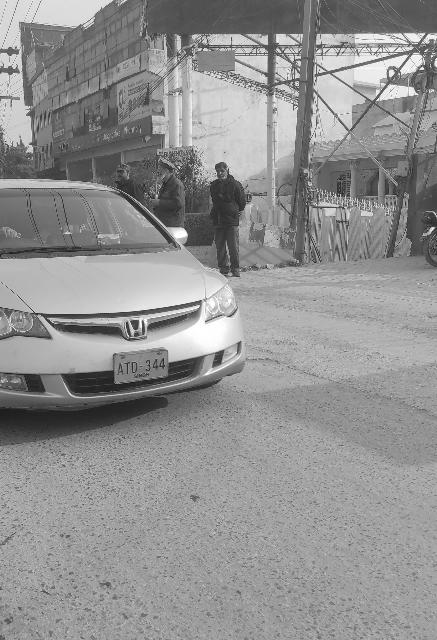Number: (116, 355, 166, 377)
